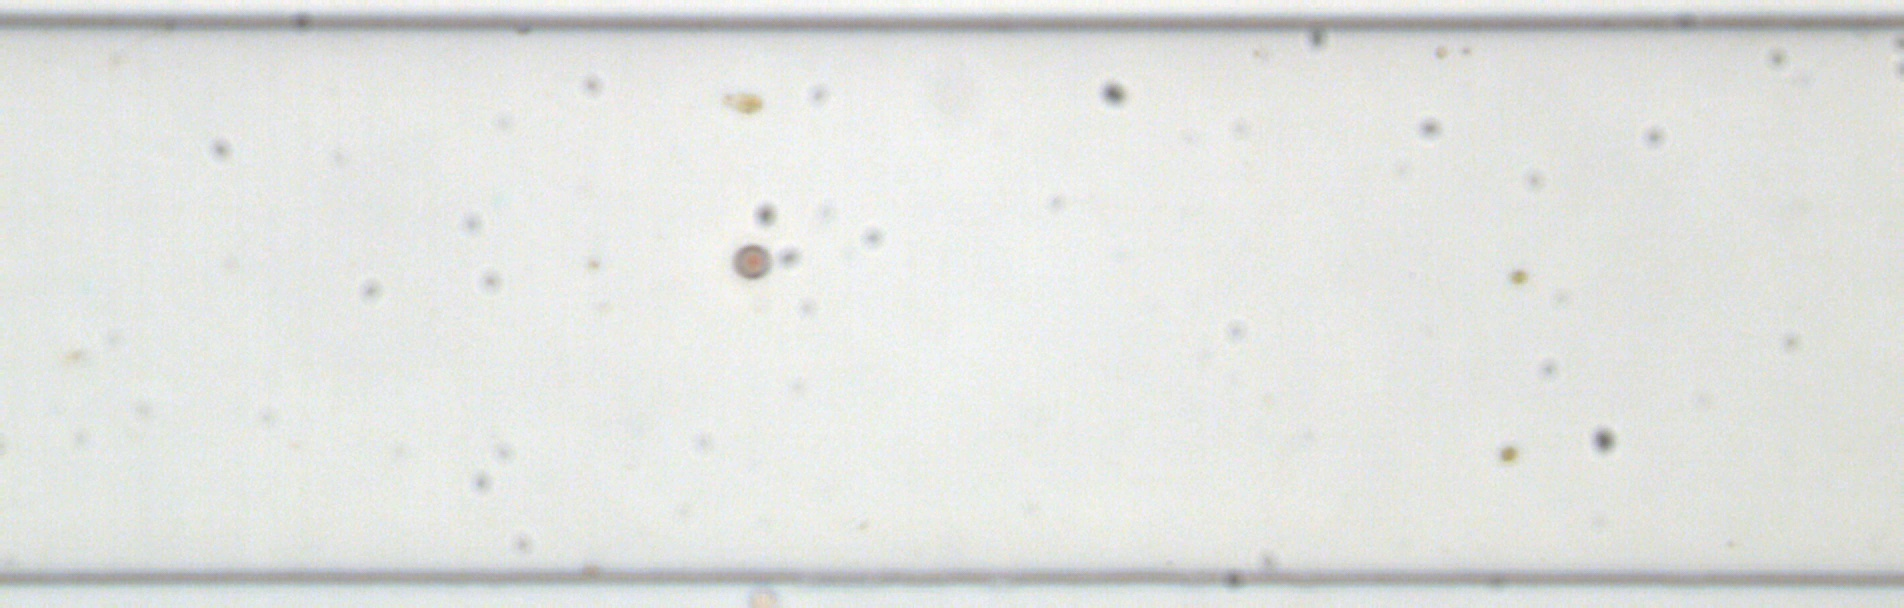Chlorella: (1507, 265, 1530, 288), (1496, 442, 1520, 464), (1430, 42, 1450, 62)
Dunaliella salina: (716, 87, 764, 119)
Porphyridium: (730, 242, 772, 280)
